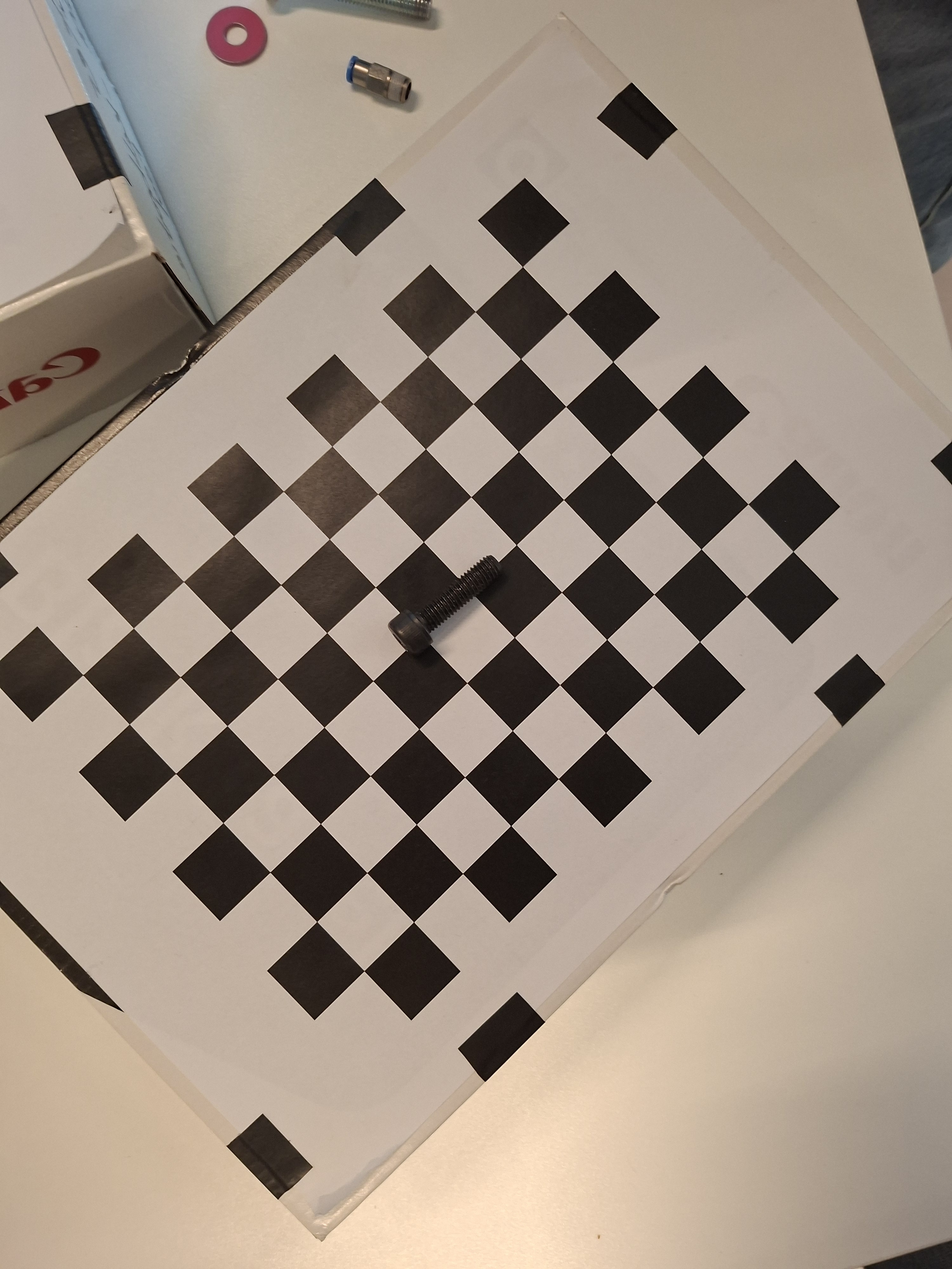allen_screw: (379, 539, 512, 662)
